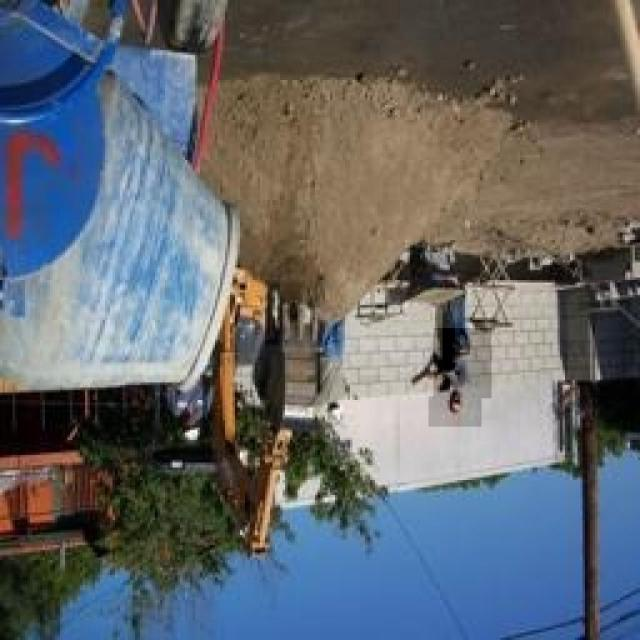Helmet: (434, 328, 492, 398), (428, 396, 482, 426)
